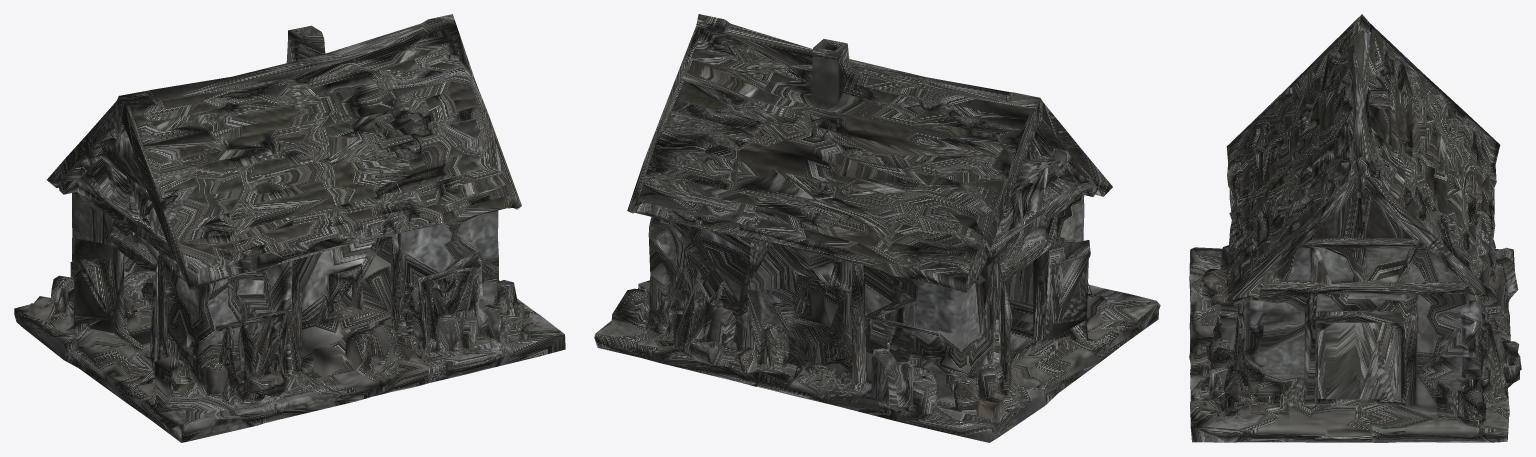
The model's file is traskhall.lod1.glb.
3 views of the same model, side by side, from view 1: azimuth 30°, elevation 25°; view 2: azimuth 150°, elevation 25°; view 3: azimuth 270°, elevation 25° (orthographic). The views are drawn at different scales.
Visible parts, largest first — view 1: traskhall-centred; view 2: traskhall-centred; view 3: traskhall-centred.
Part boxes in pixels (x1=…): traskhall-centred: x1=14, y1=14, x2=565, y2=442; traskhall-centred: x1=594, y1=14, x2=1160, y2=442; traskhall-centred: x1=1189, y1=14, x2=1521, y2=442.
Bounding box in the file's own units: 17.98 × 12.62 × 13.96.
Materials: 1 (1 with a texture image).
